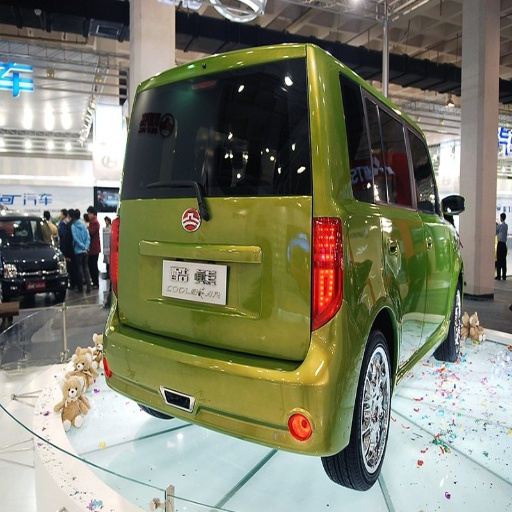back_bumper: (115, 317, 364, 453)
back_right_door: (370, 101, 425, 360)
tailgate: (188, 276, 308, 360)
trunk: (114, 200, 309, 341)
